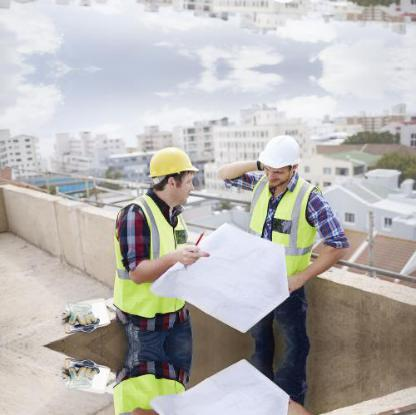helmet: (146, 142, 203, 202), (253, 130, 305, 189)
